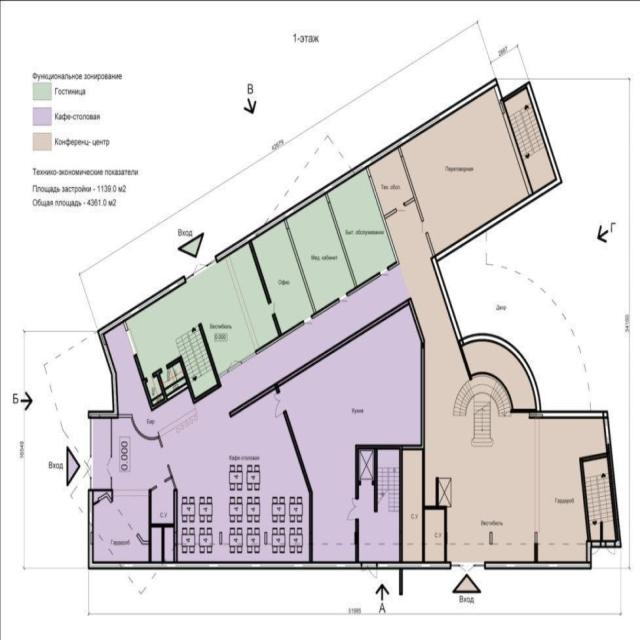Bathrooms: (403, 451, 422, 561), (425, 511, 444, 561), (152, 480, 173, 523)
Corridors: (105, 201, 606, 561), (126, 244, 278, 378), (94, 418, 169, 561), (463, 342, 535, 408), (359, 486, 399, 561), (369, 150, 413, 214), (92, 419, 110, 488), (161, 363, 183, 387), (147, 377, 162, 399), (152, 528, 161, 561), (165, 528, 173, 561)
Doors: (273, 393, 287, 419), (346, 497, 359, 522), (360, 561, 377, 580), (126, 330, 137, 356), (193, 263, 208, 278), (227, 360, 242, 374), (106, 457, 113, 477), (85, 457, 92, 477), (499, 99, 507, 115), (460, 564, 474, 573), (162, 447, 169, 464), (269, 301, 276, 314), (303, 315, 312, 324), (339, 292, 347, 302), (157, 479, 165, 488), (422, 221, 428, 233), (396, 203, 405, 211), (380, 267, 388, 276), (362, 481, 372, 486), (147, 374, 153, 382), (162, 365, 168, 372), (600, 541, 606, 547)
LBwalls: (430, 80, 622, 547), (214, 77, 503, 263), (229, 297, 425, 450), (88, 489, 361, 570), (88, 274, 187, 419), (484, 540, 592, 570), (503, 113, 534, 195), (377, 561, 452, 570), (174, 489, 178, 561), (489, 531, 493, 545), (535, 532, 537, 543)
Offices: (280, 306, 421, 562), (166, 391, 309, 561), (401, 88, 528, 253), (328, 170, 396, 284), (287, 196, 354, 311), (253, 222, 313, 333)
Stairs: (505, 89, 555, 192), (452, 375, 512, 448), (174, 324, 216, 397), (584, 458, 616, 540), (378, 451, 399, 512)
Walls: (133, 323, 222, 412), (325, 194, 381, 298), (355, 444, 403, 562), (284, 220, 340, 320), (459, 347, 537, 413), (282, 410, 313, 562), (366, 168, 401, 272), (241, 313, 305, 364), (136, 485, 174, 562), (421, 450, 447, 562), (579, 452, 607, 541), (398, 148, 424, 222), (119, 414, 164, 448), (249, 242, 272, 305), (94, 476, 113, 506), (502, 84, 526, 103), (164, 463, 177, 489), (425, 231, 435, 256), (355, 519, 359, 561), (206, 259, 217, 269), (399, 570, 403, 596), (219, 369, 228, 378), (186, 273, 194, 283), (90, 419, 92, 457), (534, 543, 538, 561), (606, 540, 615, 547), (124, 321, 129, 331), (592, 541, 600, 547), (473, 564, 484, 568), (601, 521, 603, 541), (111, 419, 112, 458), (276, 388, 281, 395), (452, 564, 461, 567), (90, 476, 92, 489)
